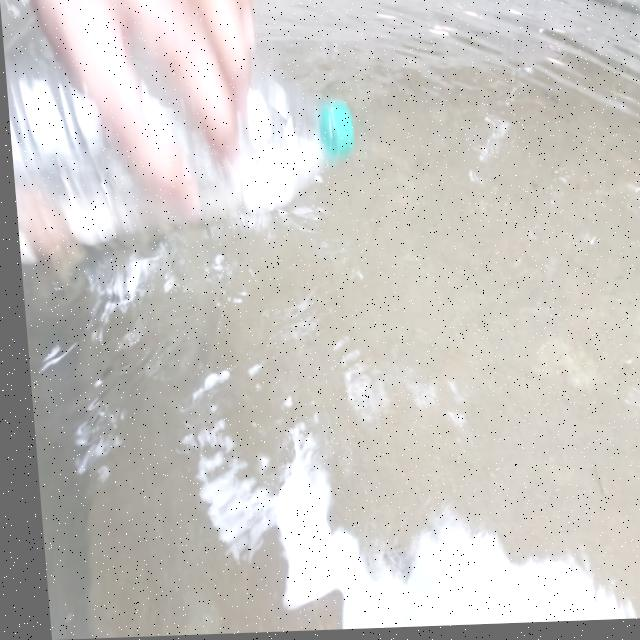waterbottle: (4, 49, 374, 255)
